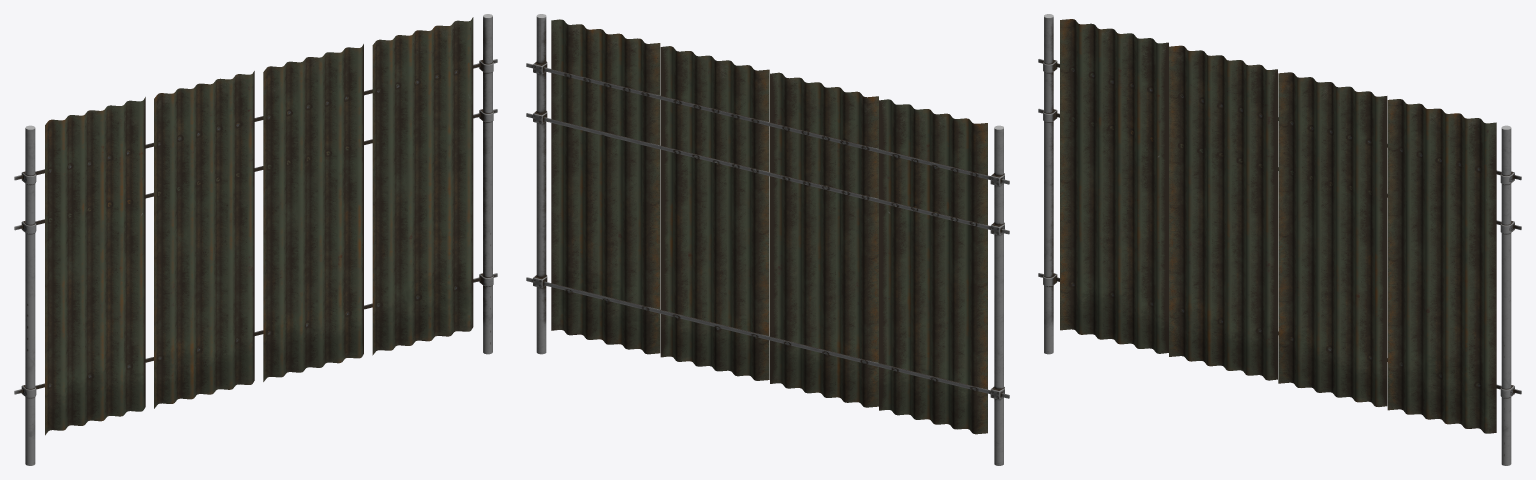
The picture shows the model from 3 angles, left to right: view 1: azimuth 30°, elevation 25°; view 2: azimuth 150°, elevation 25°; view 3: azimuth 330°, elevation 25°; orthographic projection.
Visible parts, largest first — view 1: Fencemetal_2; view 2: Fencemetal_2; view 3: Fencemetal_2.
Boxes of the visible parts, bbox=[...] form: Fencemetal_2: bbox=[14, 14, 497, 465]; Fencemetal_2: bbox=[526, 14, 1009, 465]; Fencemetal_2: bbox=[1038, 14, 1521, 465].
Size of the model in its own units: 4.51 by 3 by 0.1147.
1 material, 1 textured.
